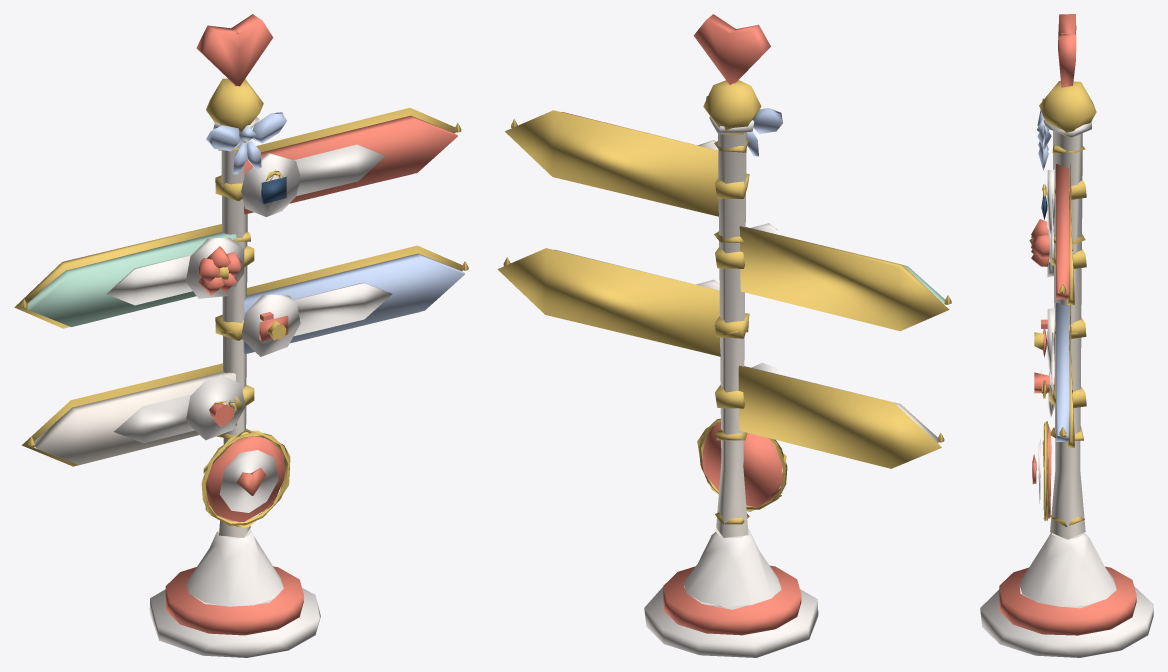
The model's file is lod_wayfinding_post.glb.
The picture shows the model from 3 angles, left to right: view 1: azimuth 30°, elevation 25°; view 2: azimuth 150°, elevation 25°; view 3: azimuth 270°, elevation 25°; orthographic projection.
Parts seen in each view (by area): view 1: wayfinding_post; view 2: wayfinding_post; view 3: wayfinding_post.
Boxes of the visible parts, <box> form: wayfinding_post: <box>14,14,468,657</box>; wayfinding_post: <box>497,14,951,657</box>; wayfinding_post: <box>980,14,1153,657</box>.
Size of the model in its own units: 3.12 by 3.95 by 1.04.
